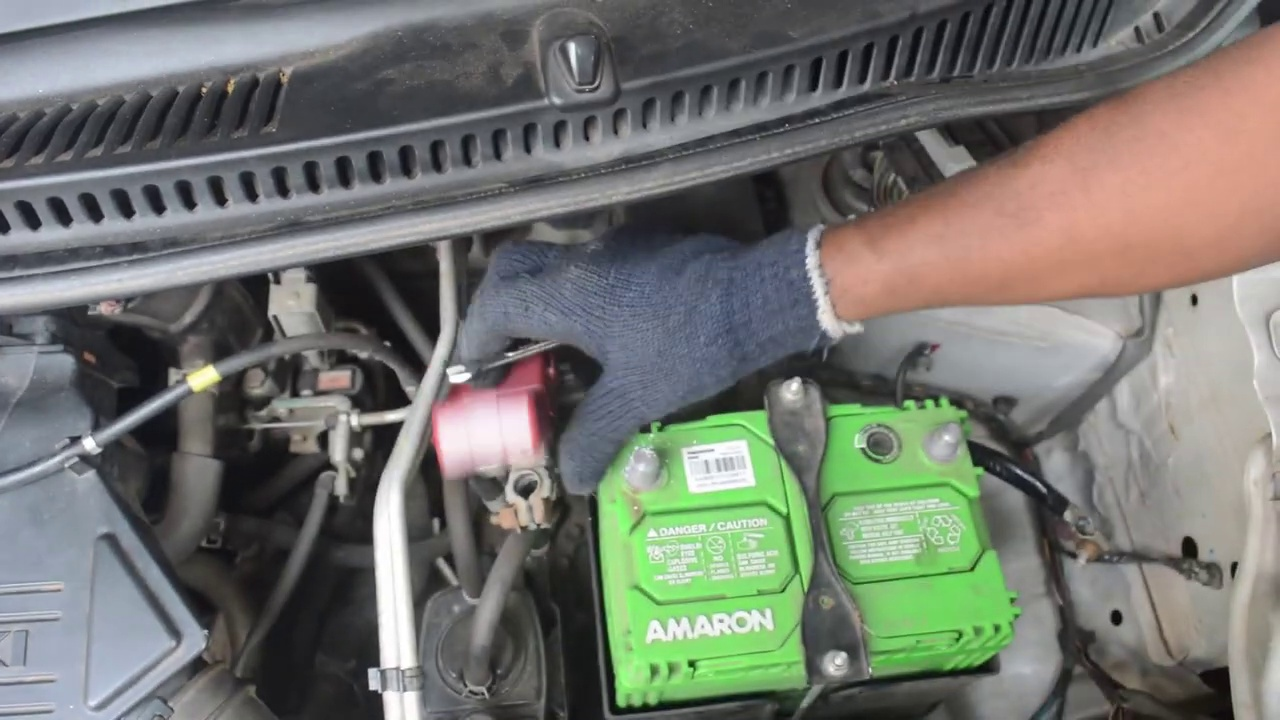battery: (576, 409, 1019, 658)
neg_disconnected: (912, 400, 989, 487)
pos_disconnected: (468, 354, 681, 515)
pos_touched: (444, 266, 693, 516)
